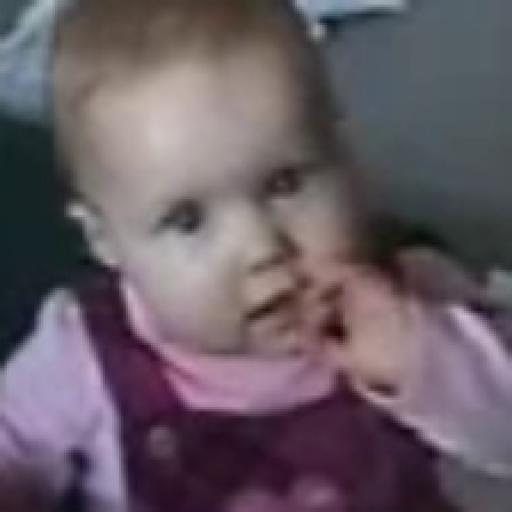Autism: (14, 0, 411, 400)
